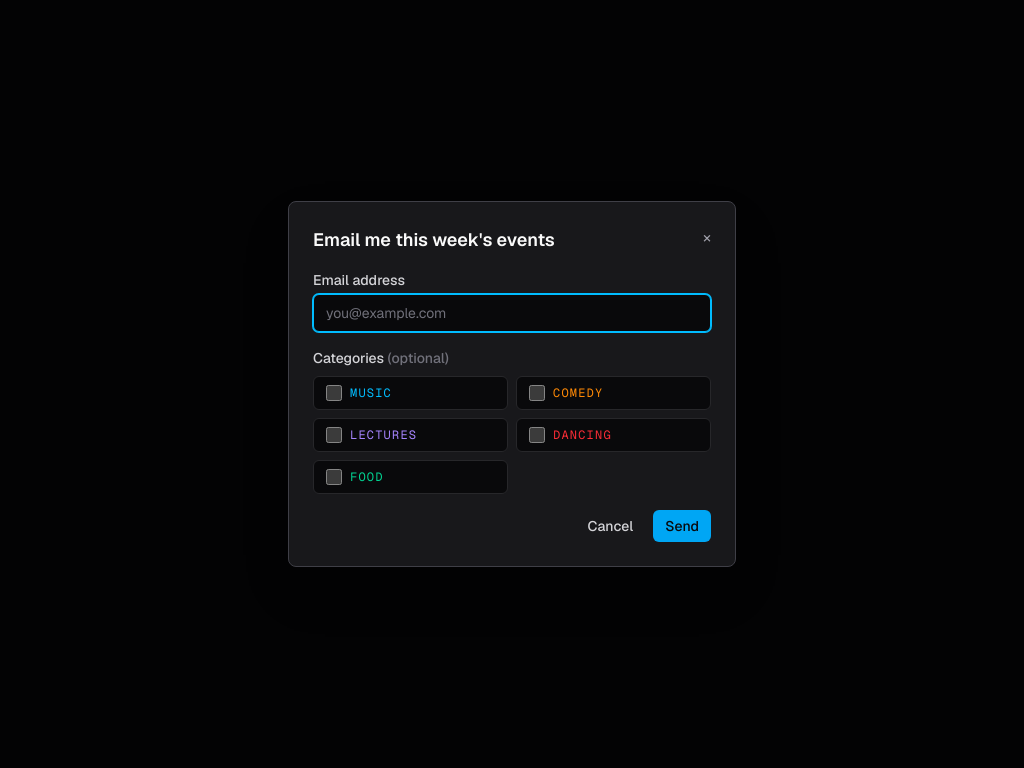
Scenario: DigestModal — E6 error state › shows an error message on non-200
The image size is (1024, 768).
In the field with test id "digest-email-input": (512,313) left=313, top=294, right=711, bottom=332, type "ok@example.com"
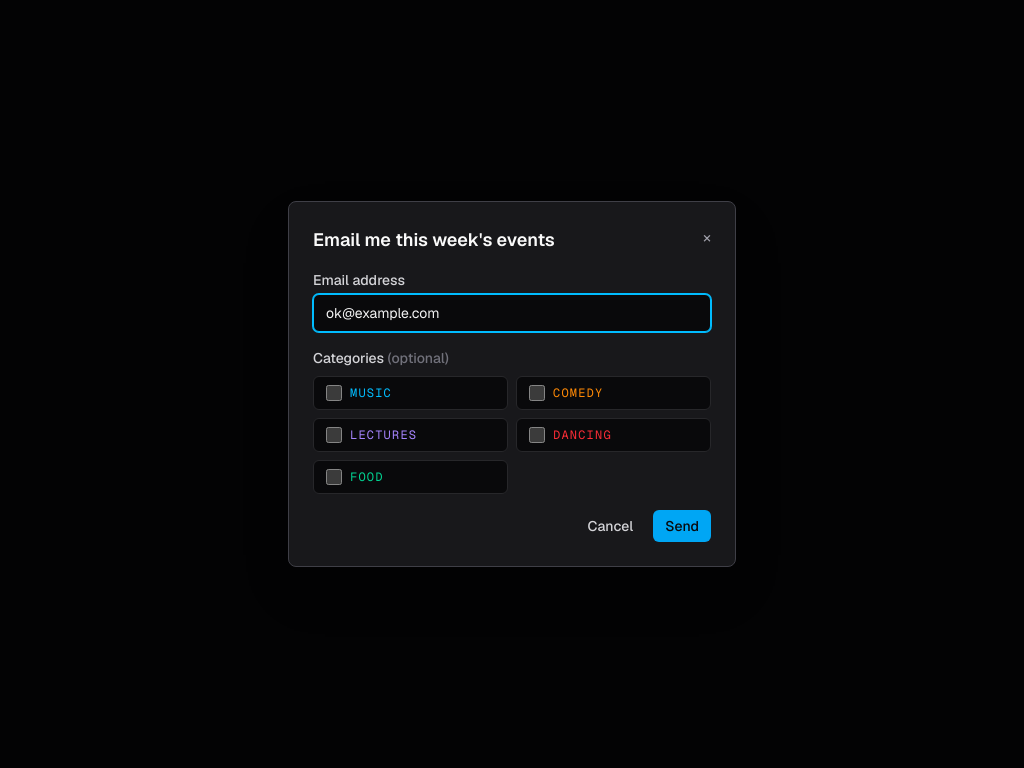
Click the button with test id "digest-submit": (682,526) left=653, top=510, right=711, bottom=542
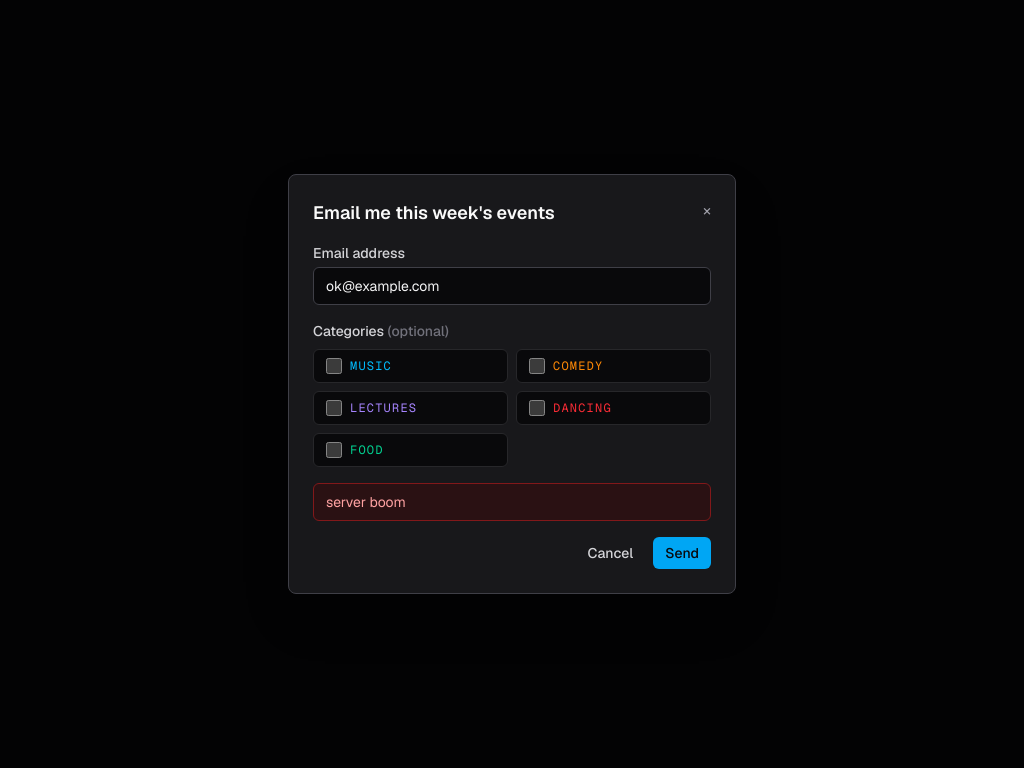
Result: the message "server boom" is shown at left=313, top=483, right=711, bottom=521
Result: the message with test id "digest-error" reads "server boom" at left=326, top=493, right=406, bottom=511
